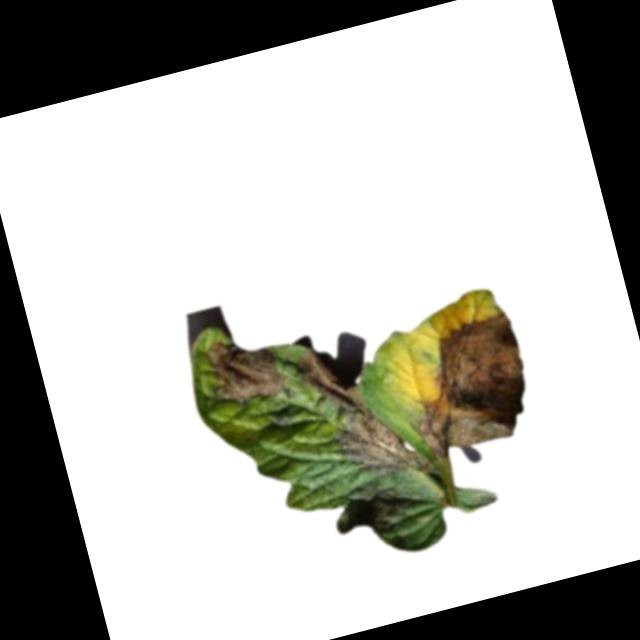Late_blight: (292, 326, 437, 502), (390, 308, 544, 465), (200, 324, 294, 412), (344, 478, 409, 536)
